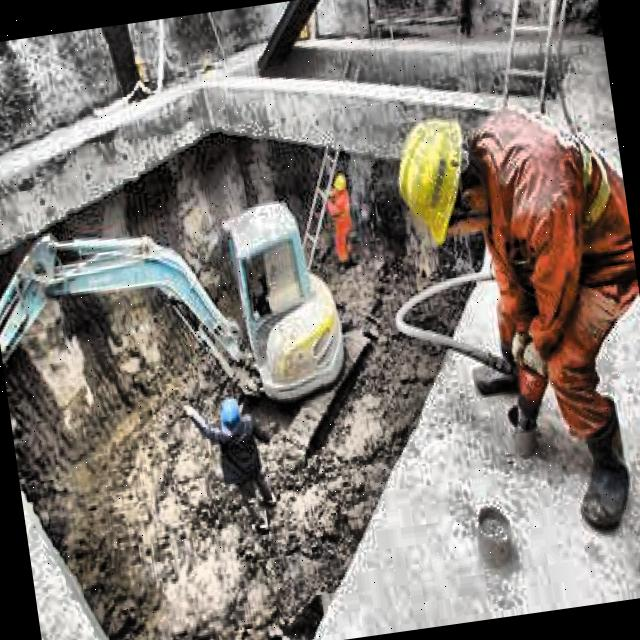helmet: (386, 110, 496, 256), (215, 396, 248, 444), (330, 170, 349, 196)
